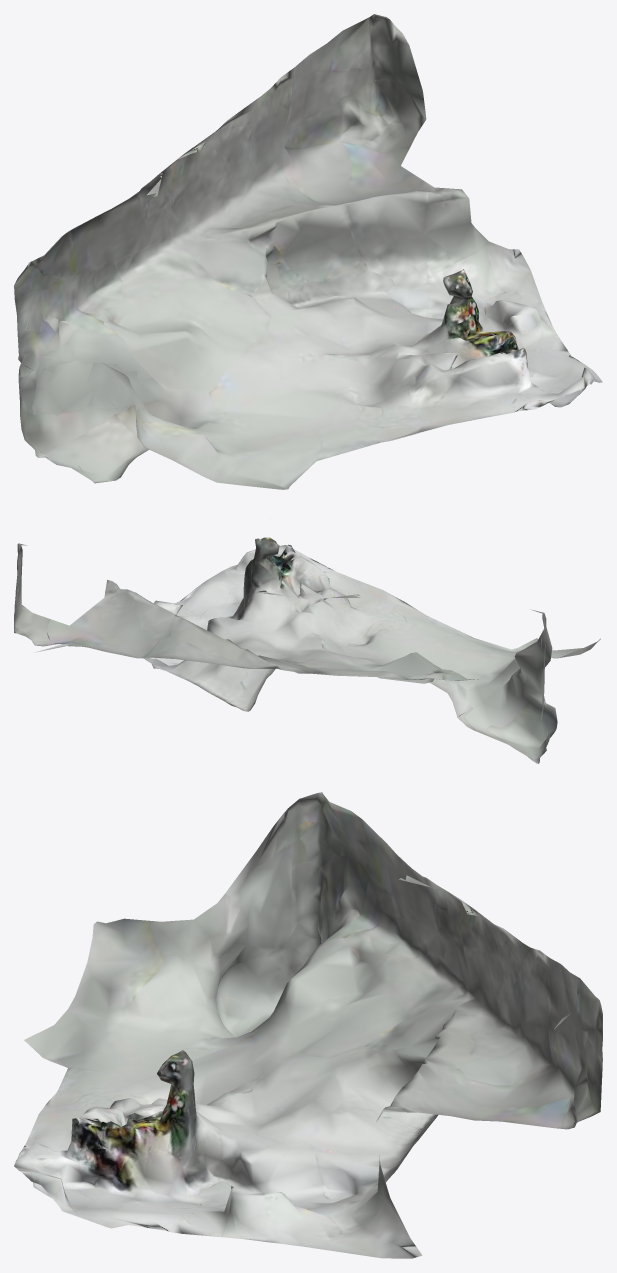
File: hall.glb
3 renders of one model, top to bottom at view 1: azimuth 30°, elevation 25°; view 2: azimuth 150°, elevation 25°; view 3: azimuth 270°, elevation 25°, orthographic. The views are drawn at different scales.
Size of the model in its own units: 1.42 by 0.6073 by 1.17.
Materials: 1 (1 with a texture image).
